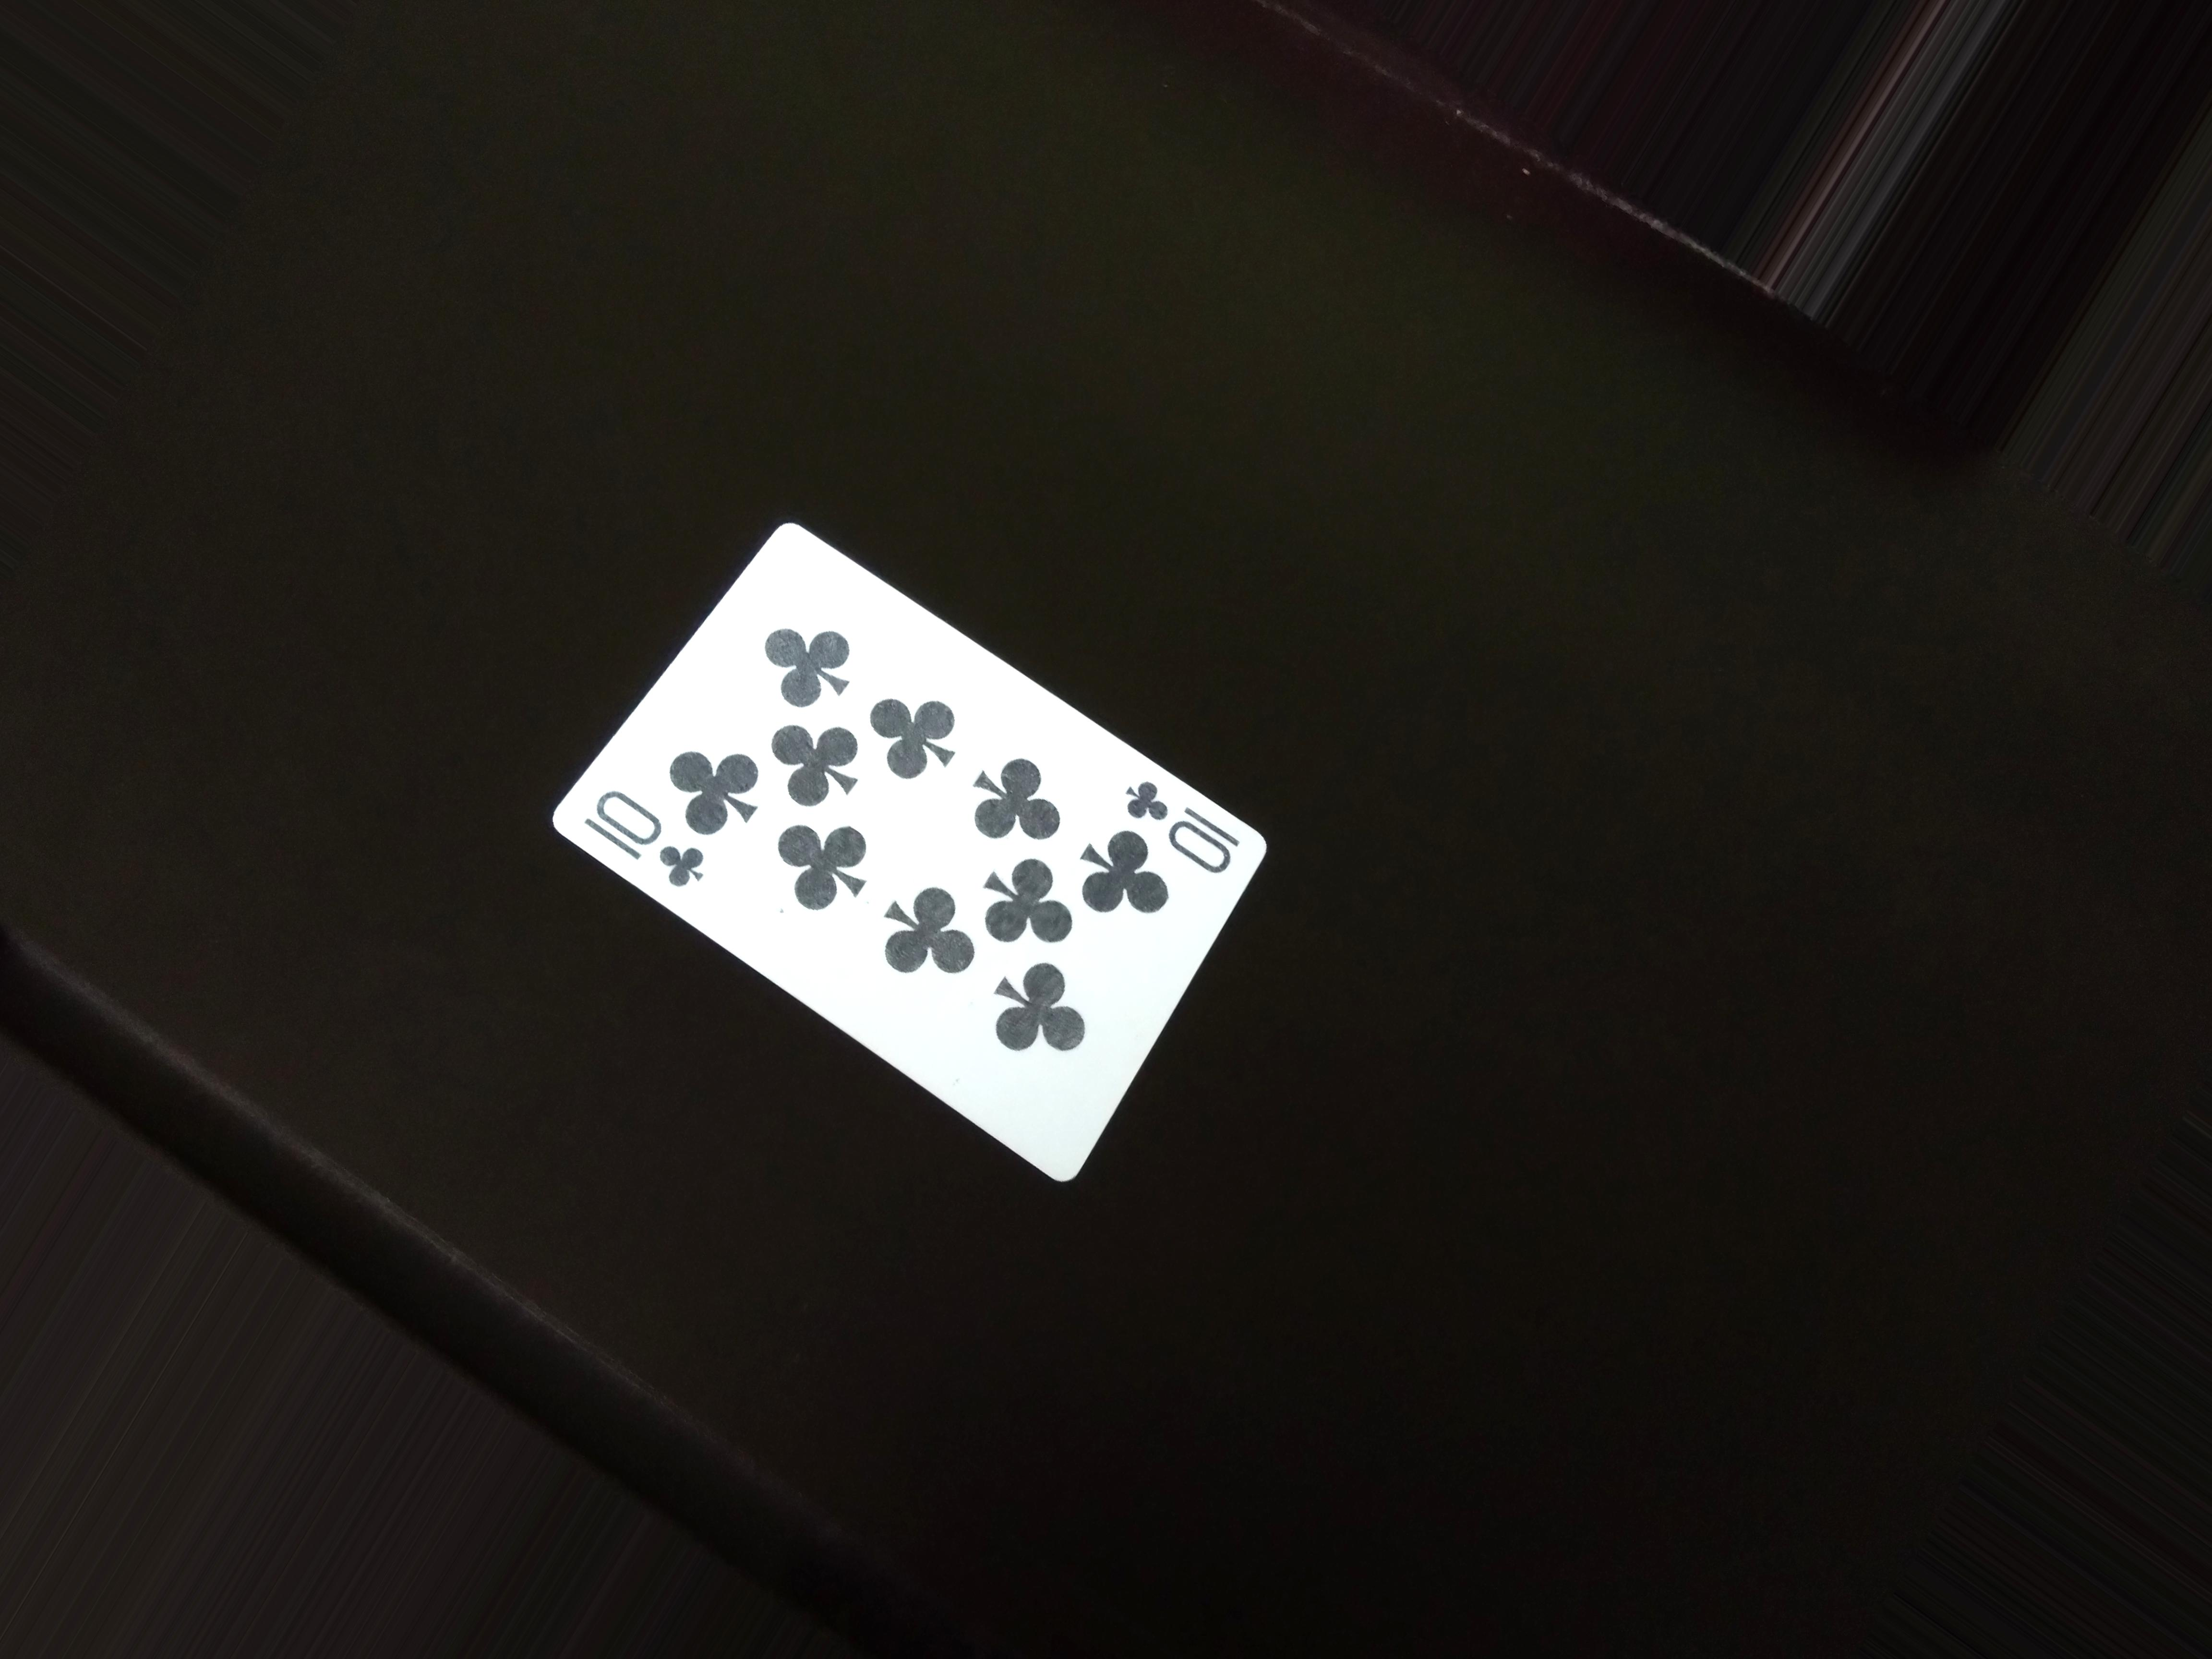10C: (1116, 775, 1271, 861)
